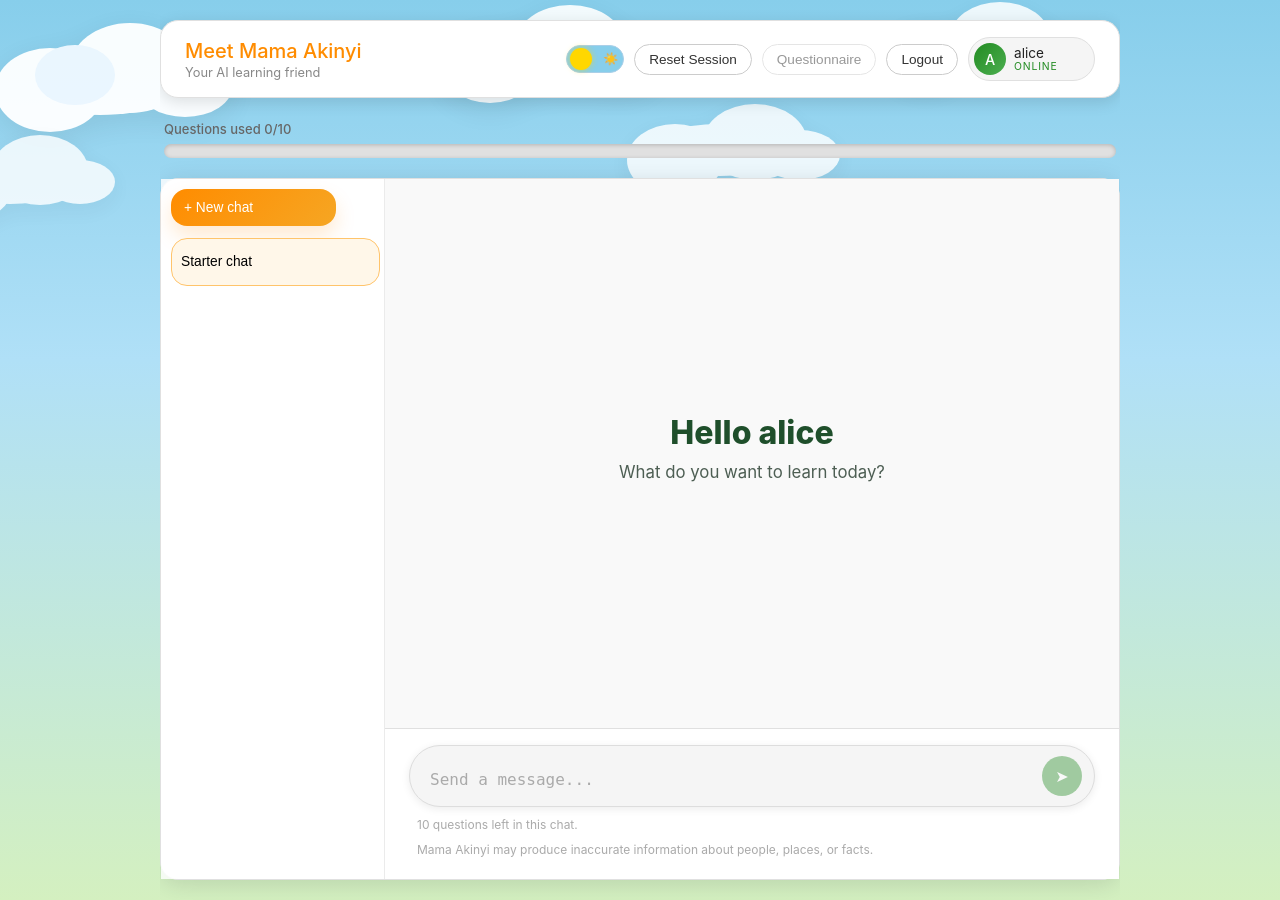
sends a message and renders assistant response
Check: the button "Starter chat" is shown, box [181,248,333,276]
Check: the text "Questions used 0/10" is shown, box [164,121,291,137]
In the text box with placeholder "Send a message...": (731, 782) [430,768,1032,796], type "Hello"
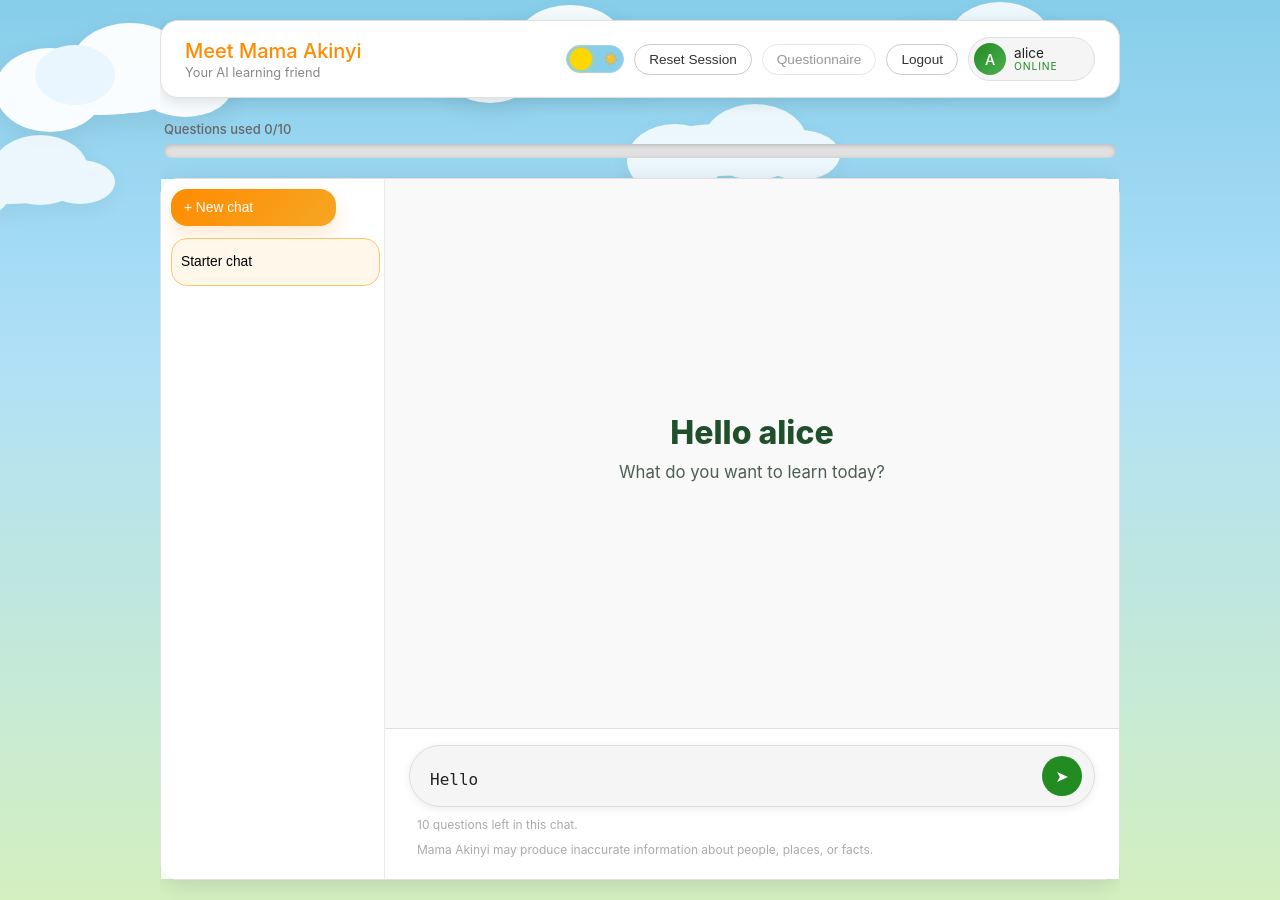
Click the button named "send": click(1062, 776) [1042,756,1082,796]
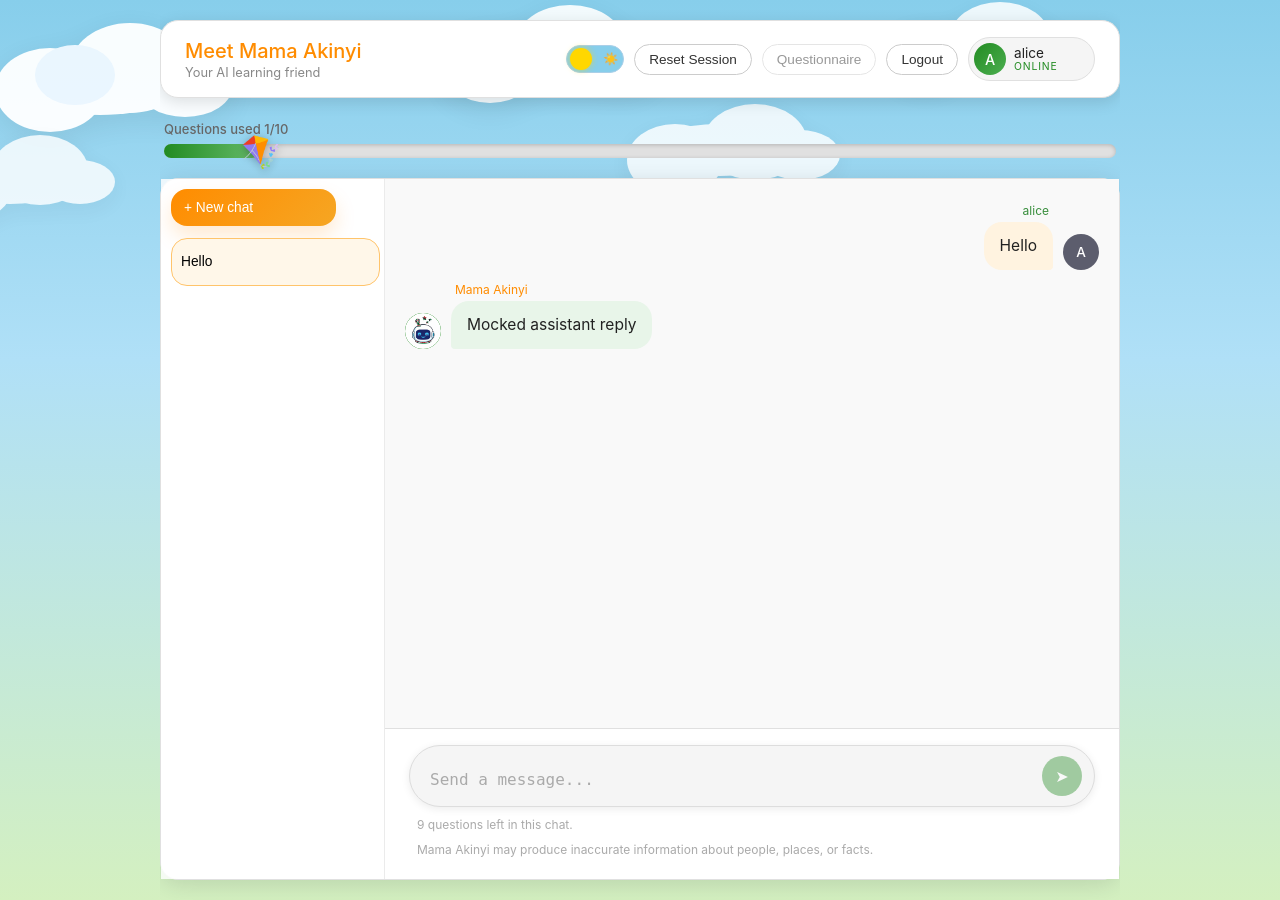
Check: the text "Mocked assistant reply" is shown, box [467,313,636,337]
Check: the text "Questions used 1/10" is shown, box [164,121,288,137]
Check: the text "9 questions left in this chat." is shown, box [417,817,573,832]
